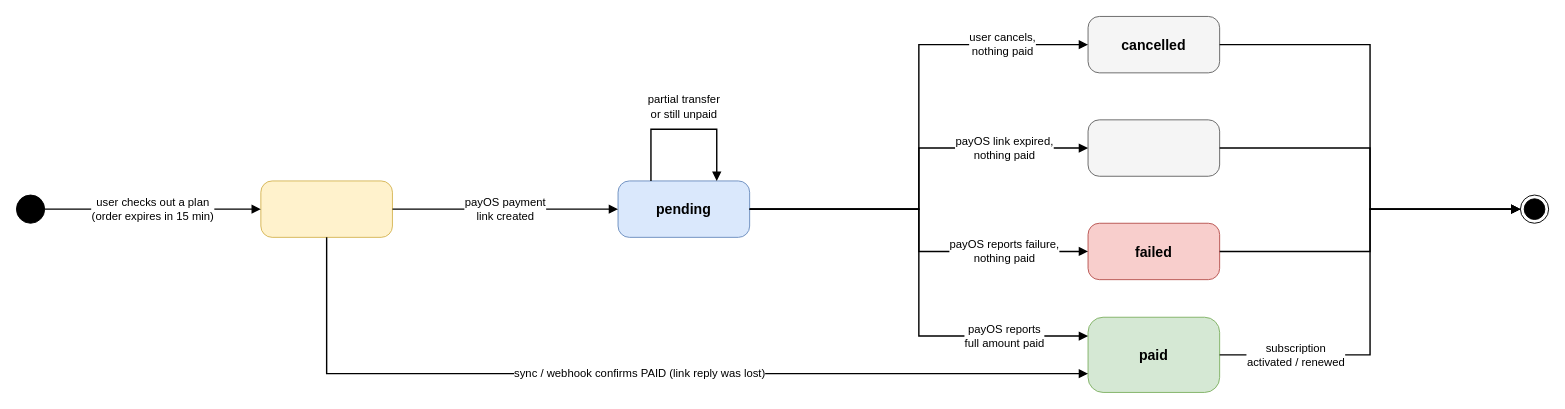
The diagram is 1565 pixels wide and 409 high, and some of its shapes have lost their labels. The shapes that lost their labels are listed below. From the top down, each one's centre as x and y in pixels, then its label:
At point 1153,147: "expired".
At point 326,208: "creating".
